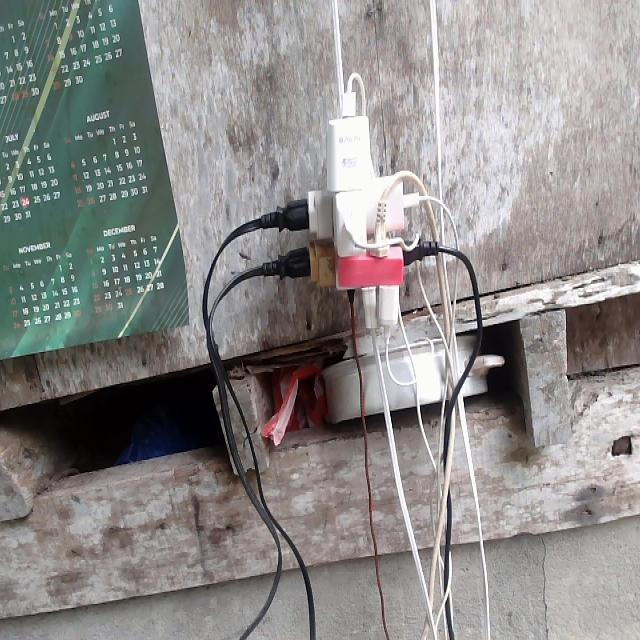-: (259, 69, 445, 343)
